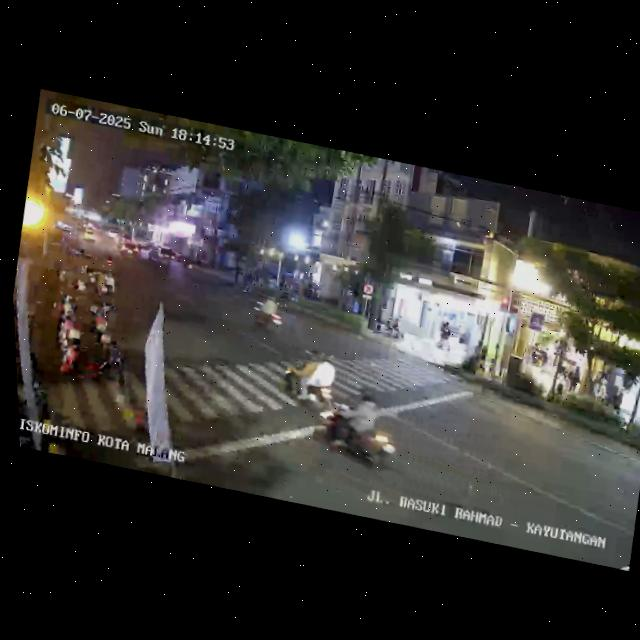car: (146, 244, 176, 268), (117, 240, 140, 260)
motorcycle: (308, 377, 406, 474), (276, 342, 343, 415), (246, 291, 288, 338)
person: (435, 321, 453, 350), (567, 364, 584, 393), (437, 320, 453, 349), (639, 390, 640, 422)
